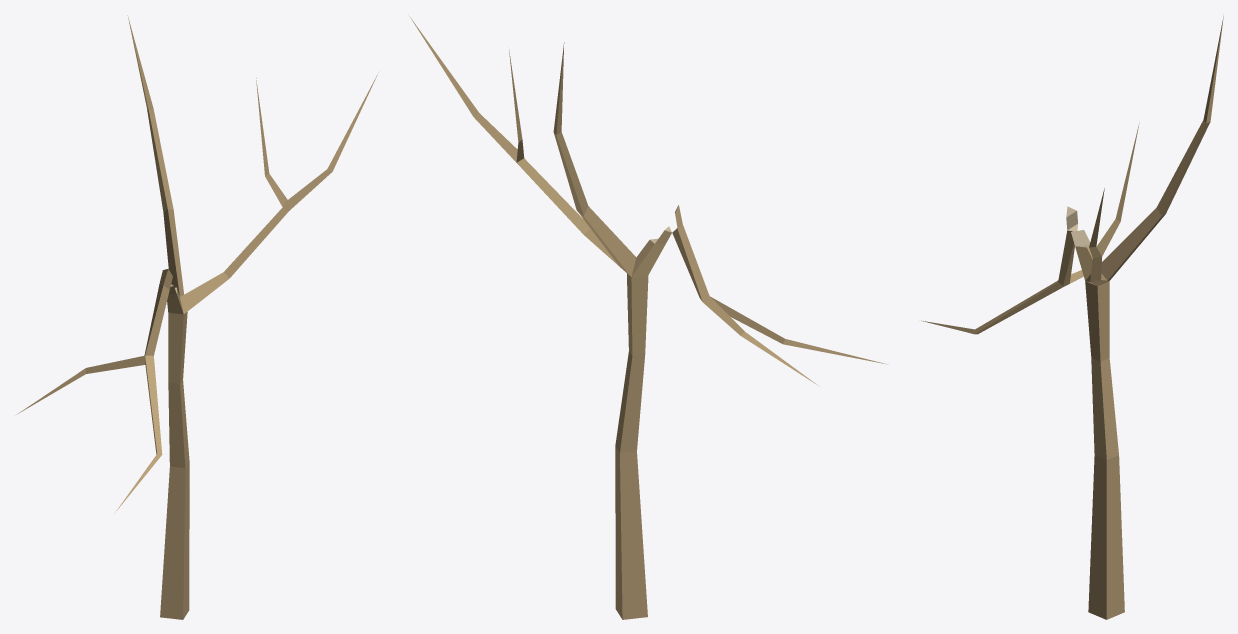
The model's file is Apple_Tree_NoLeaves_crk_s_01_LOD.fbx.
3 renders of one model, left to right at view 1: azimuth 30°, elevation 25°; view 2: azimuth 150°, elevation 25°; view 3: azimuth 270°, elevation 25°, orthographic. The views are drawn at different scales.
Visible parts, largest first — view 1: Apple_Tree_NoLeaves_crk_s_01_LOD0; view 2: Apple_Tree_NoLeaves_crk_s_01_LOD0; view 3: Apple_Tree_NoLeaves_crk_s_01_LOD0.
Part boxes in pixels (box(x1,y1,x2,y2)): Apple_Tree_NoLeaves_crk_s_01_LOD0: box(16, 15, 378, 619); Apple_Tree_NoLeaves_crk_s_01_LOD0: box(409, 16, 886, 619); Apple_Tree_NoLeaves_crk_s_01_LOD0: box(921, 16, 1223, 619).
Size of what is drawn, in the model's own units: 152 by 218 by 100.
